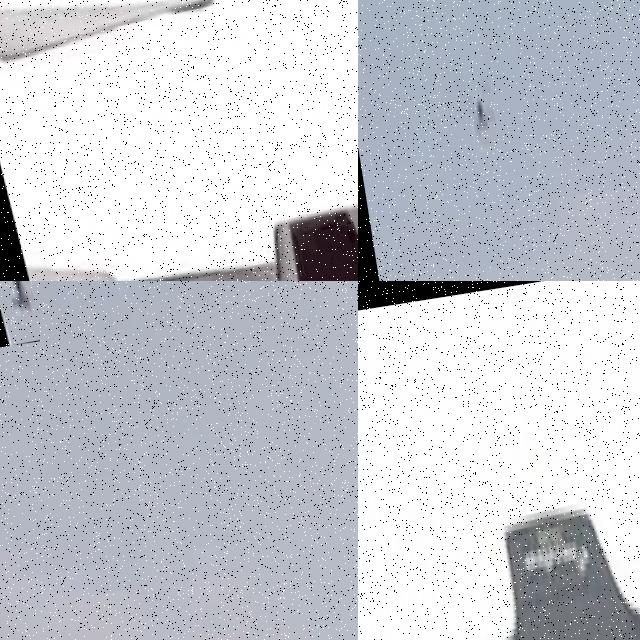drone: (0, 0, 358, 281), (358, 376, 640, 640), (0, 281, 40, 348)
